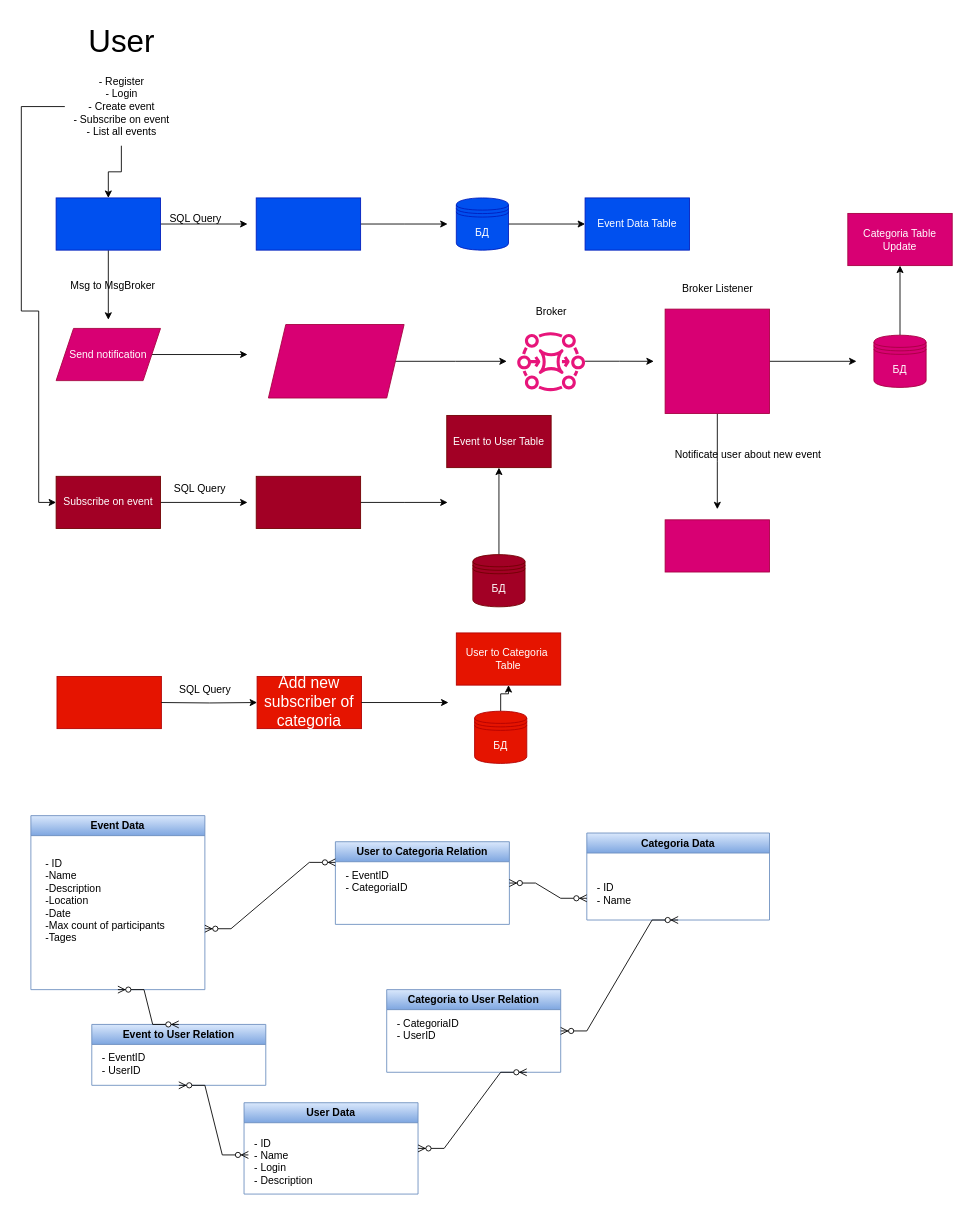
Some shapes in this 967 by 1221 pixel diagram are drawn without their labels. Each missing label, with the centre of its shape:
"Add new participant of event" goes at point 308,502.
"Create event" goes at point 108,223.
"Get info about event and update data" goes at point 717,361.
"INSERT EVENT DATA" goes at point 308,223.
"Json that contains info about new event" goes at point 336,361.
"Subscribe on categoria" goes at point 108,702.
"User UI" goes at point 717,545.
